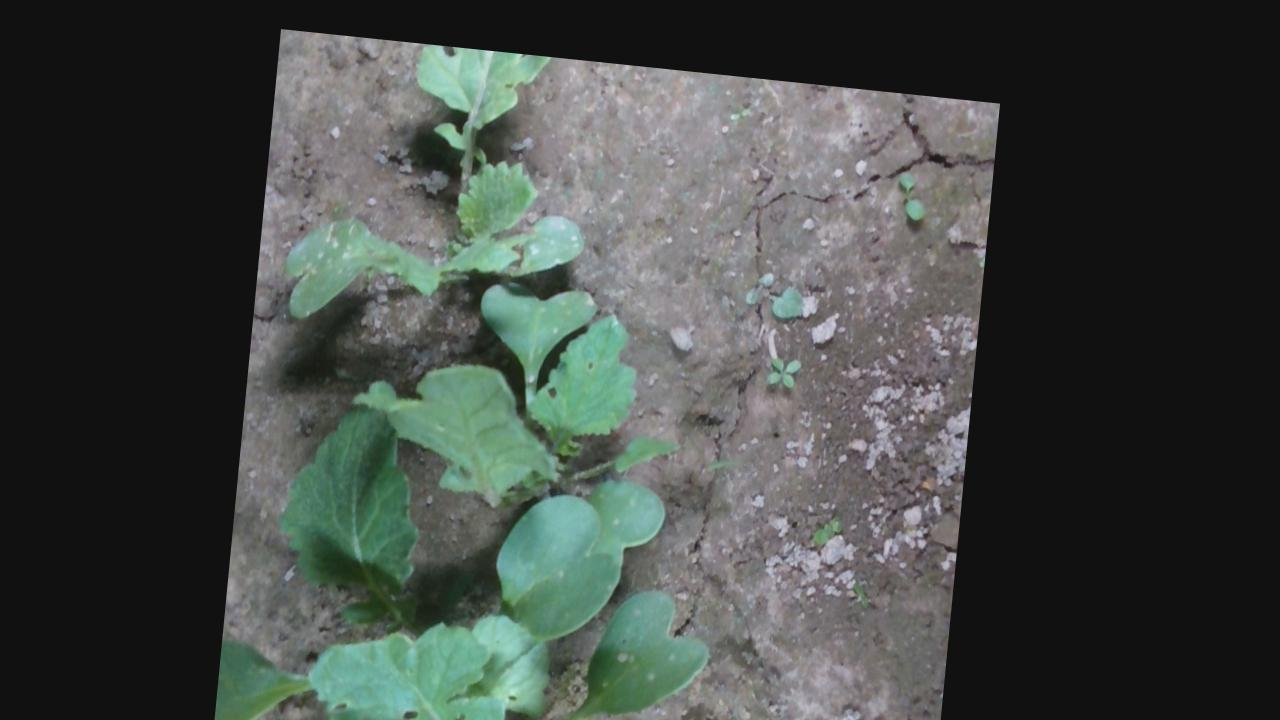weed: (896, 150, 932, 203), (772, 336, 809, 373)
